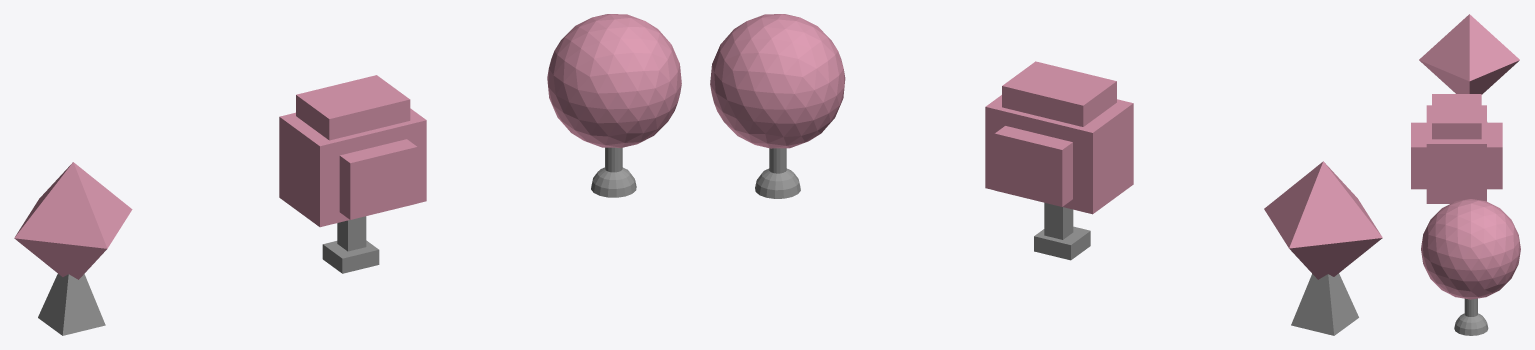
The model's file is proceduralElementsExport.FBX.
The picture shows the model from 3 angles, left to right: view 1: azimuth 30°, elevation 25°; view 2: azimuth 150°, elevation 25°; view 3: azimuth 270°, elevation 25°; orthographic projection. The views are drawn at different scales.
Parts seen in each view (by area): view 1: tree_01, tree_02, tree_03; view 2: tree_01, tree_02, tree_03; view 3: tree_02, tree_01, tree_03.
Boxes of the visible parts, x1=… form: tree_01: x1=279, y1=75, x2=426, y2=273; tree_02: x1=547, y1=14, x2=681, y2=197; tree_03: x1=14, y1=162, x2=132, y2=335; tree_01: x1=985, y1=61, x2=1133, y2=260; tree_02: x1=710, y1=14, x2=845, y2=198; tree_03: x1=1264, y1=161, x2=1382, y2=335; tree_02: x1=1421, y1=199, x2=1520, y2=335; tree_01: x1=1411, y1=94, x2=1502, y2=203; tree_03: x1=1419, y1=14, x2=1519, y2=122.
Size of the model in its own units: 29.73 by 7.26 by 5.77.
